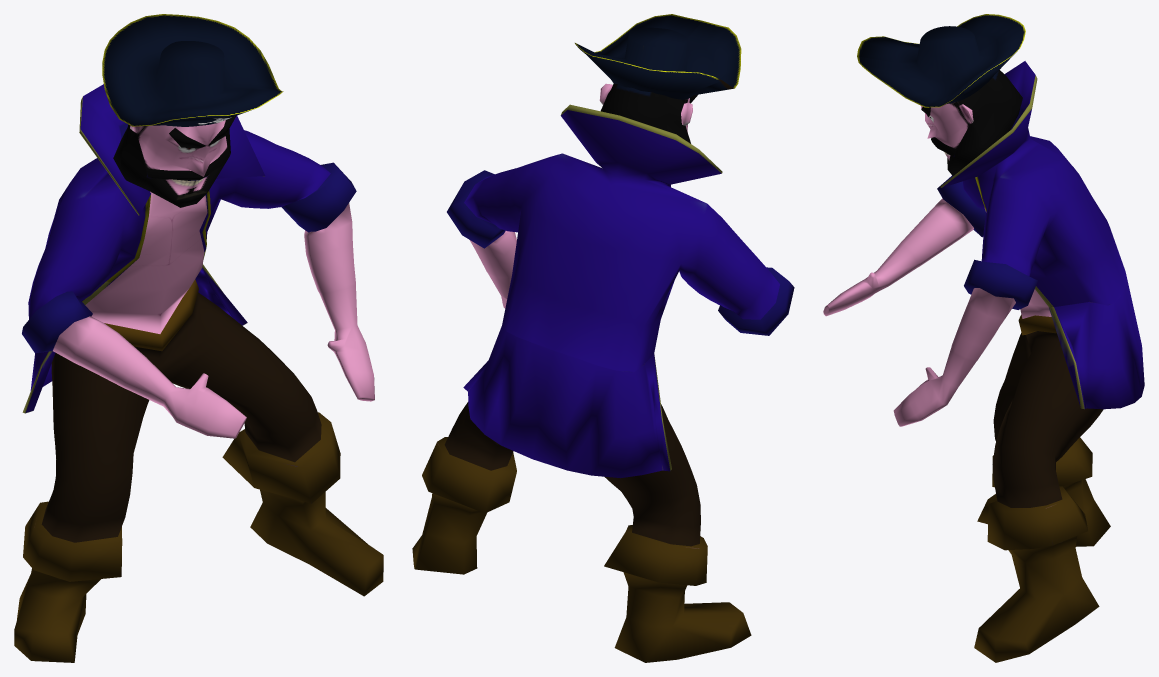
The model's file is PirataCelebracion_000156.obj.
The picture shows the model from 3 angles, left to right: view 1: azimuth 30°, elevation 25°; view 2: azimuth 150°, elevation 25°; view 3: azimuth 270°, elevation 25°; orthographic projection. The views are drawn at different scales.
Parts seen in each view (by area): view 1: Pirata_PirataH; view 2: Pirata_PirataH; view 3: Pirata_PirataH.
Part boxes in pixels (bbox=[...]): Pirata_PirataH: bbox=[14, 14, 383, 662]; Pirata_PirataH: bbox=[412, 14, 794, 662]; Pirata_PirataH: bbox=[823, 14, 1144, 662].
Bounding box in the file's own units: 4.48 × 6.93 × 3.76.
1 material, 1 textured.
